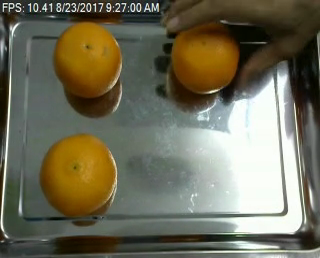Orange: (39, 134, 117, 216), (53, 20, 122, 97)
